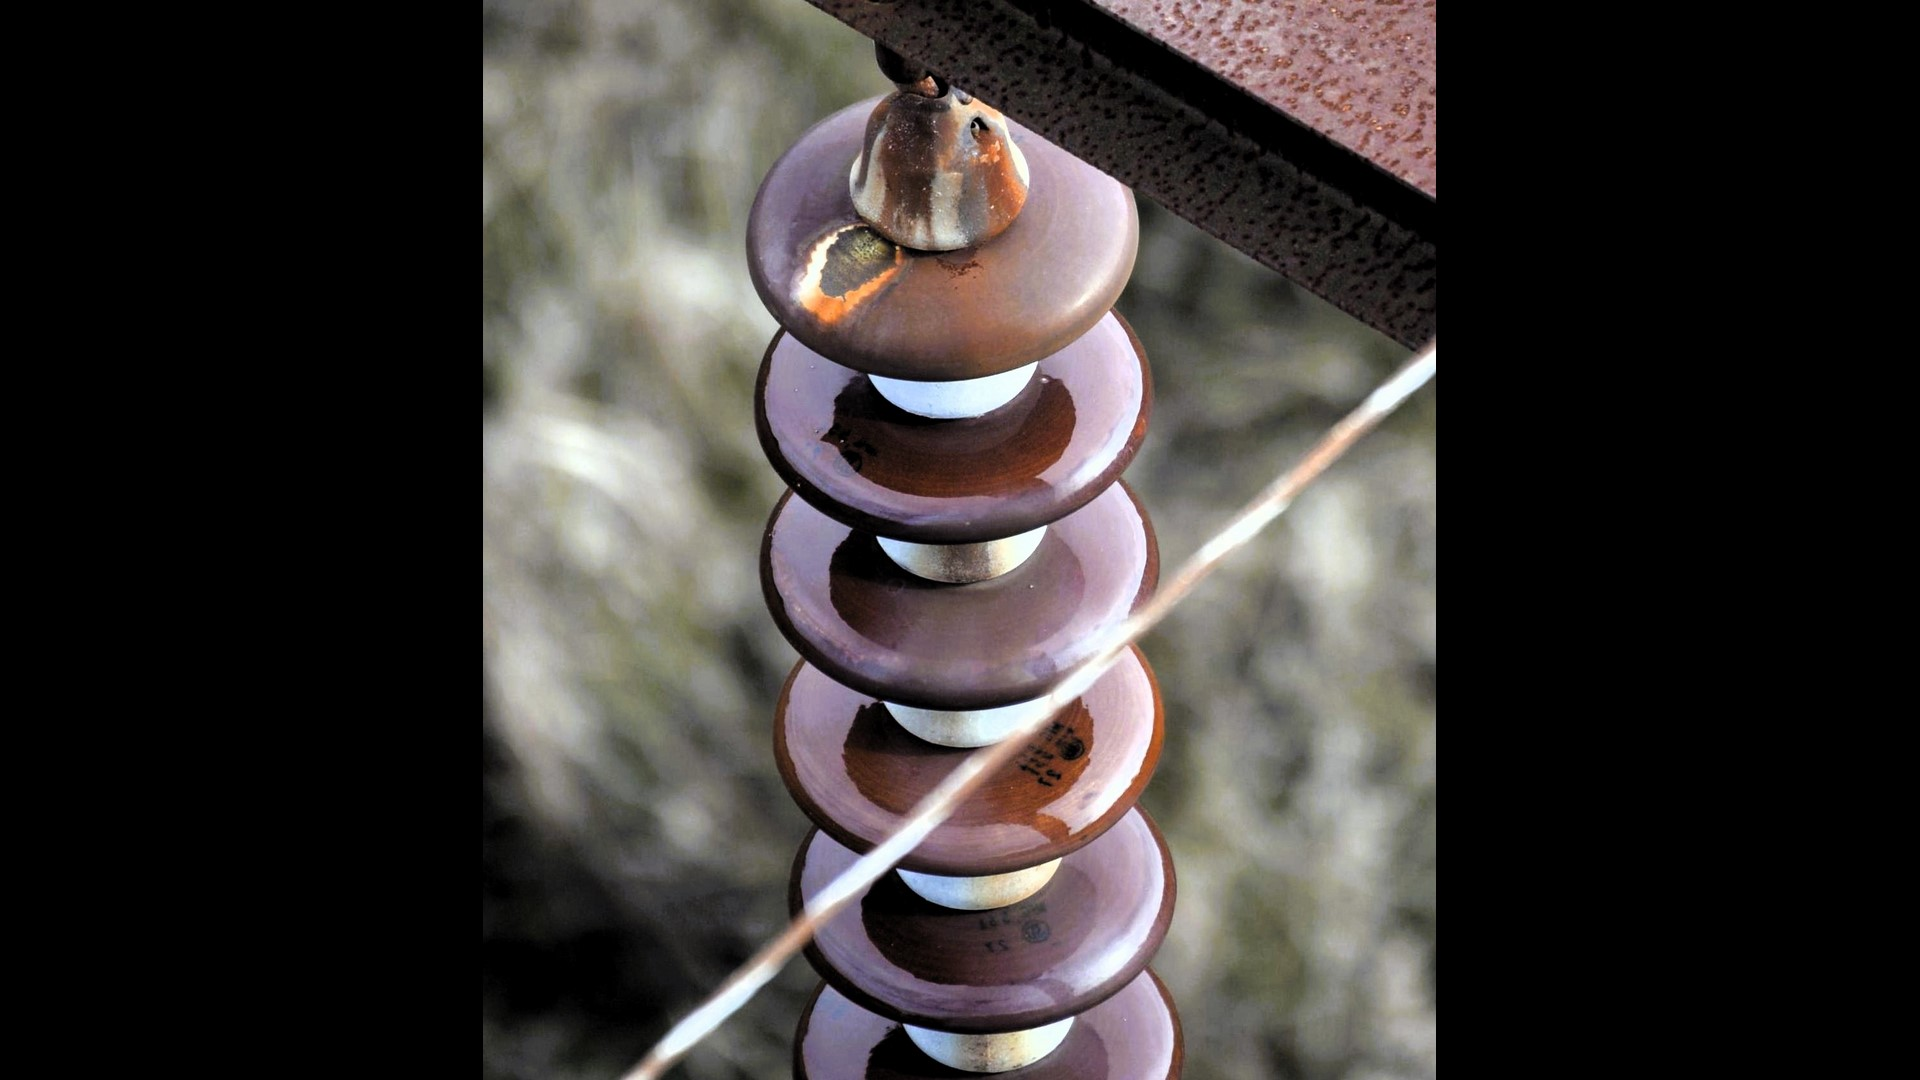Insulator flashover: (732, 79, 1156, 389)
